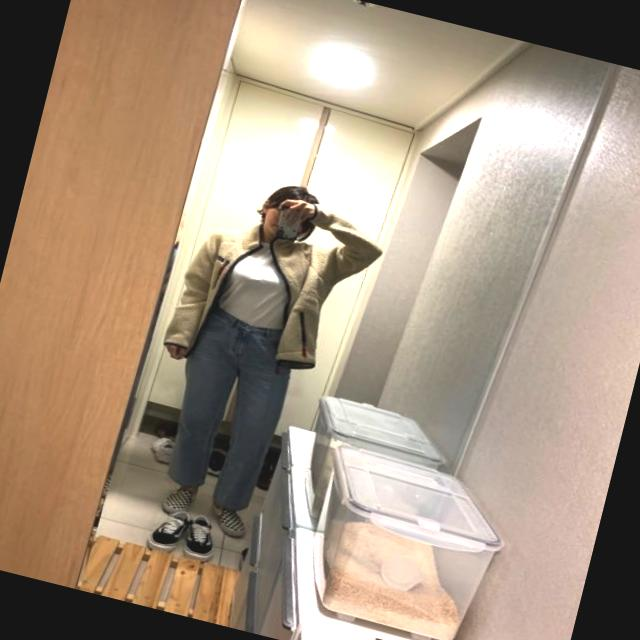denimpants: (153, 304, 300, 520)
jacket: (161, 176, 390, 390)
